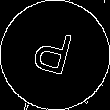P_S: (31, 26, 79, 84)
